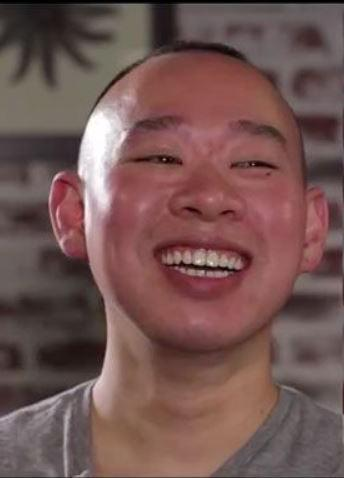Drunk: (98, 78, 301, 332)
